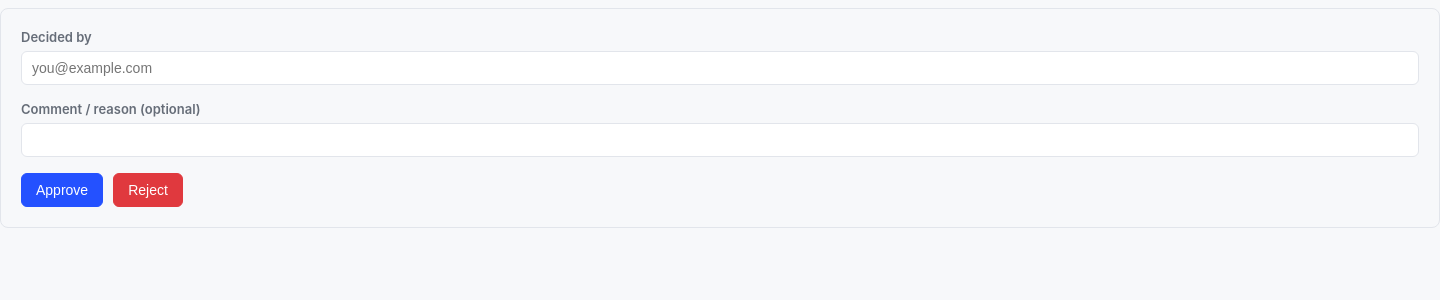
Test case: ApprovalActions › surfaces API errors
Type "someone" into the field labelled "Decided by" at [720, 68], box [21, 51, 1419, 85]
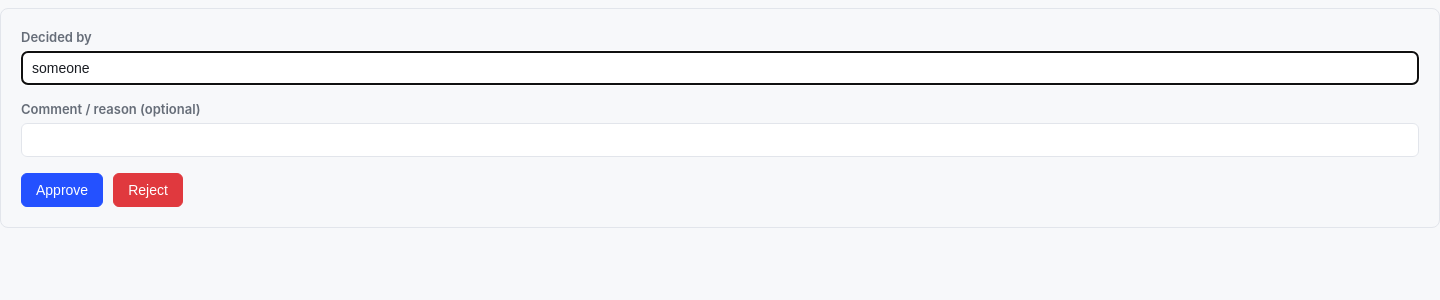
Click the button "Approve" at [62, 190], box [21, 173, 103, 207]
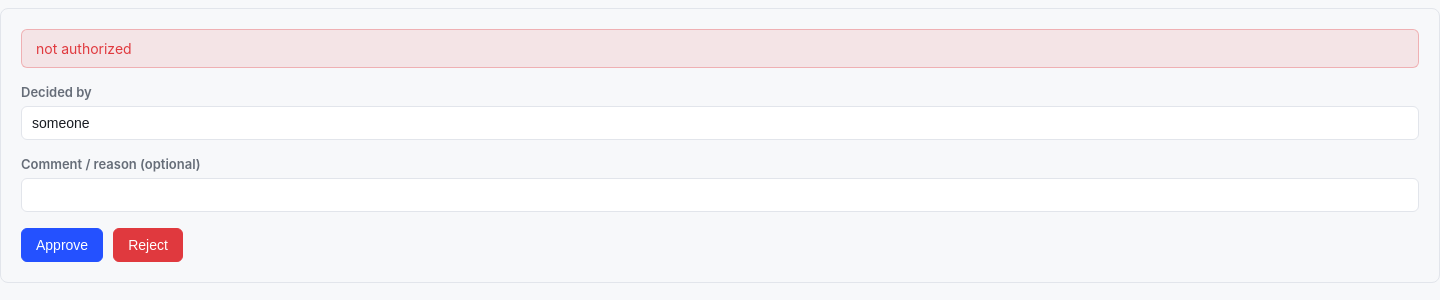
Expected: the text "not authorized" is shown, [21, 29, 1419, 68]
